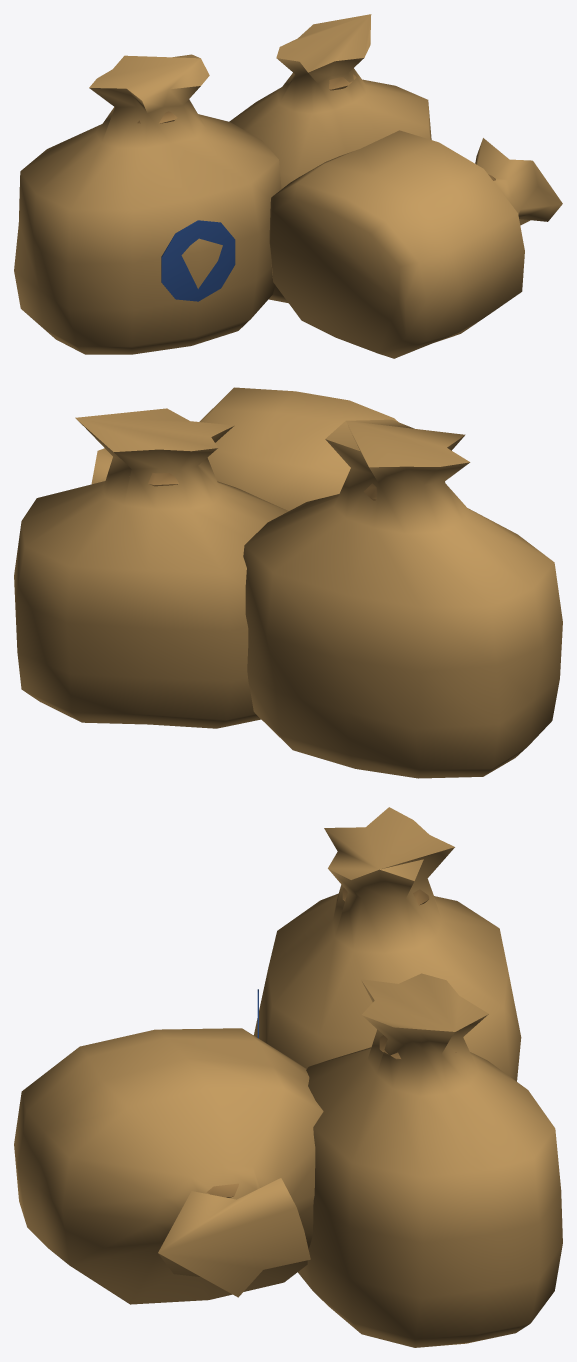
Rendered from sacks.glb.
3 renders of one model, top to bottom at view 1: azimuth 30°, elevation 25°; view 2: azimuth 150°, elevation 25°; view 3: azimuth 270°, elevation 25°, orthographic. The views are drawn at different scales.
Visible parts, largest first — view 1: Sacks Burlap, Sacks Stamp; view 2: Sacks Burlap, Sacks Rope; view 3: Sacks Burlap, Sacks Rope.
Boxes of the visible parts, x1,y1,x2,y2 form: Sacks Burlap: (14, 14, 562, 358); Sacks Stamp: (161, 220, 235, 301); Sacks Burlap: (14, 387, 562, 778); Sacks Rope: (129, 473, 376, 500); Sacks Burlap: (14, 807, 562, 1347); Sacks Rope: (206, 888, 455, 1197).
Bounding box in the file's own units: 1.38 × 0.7465 × 1.11.
